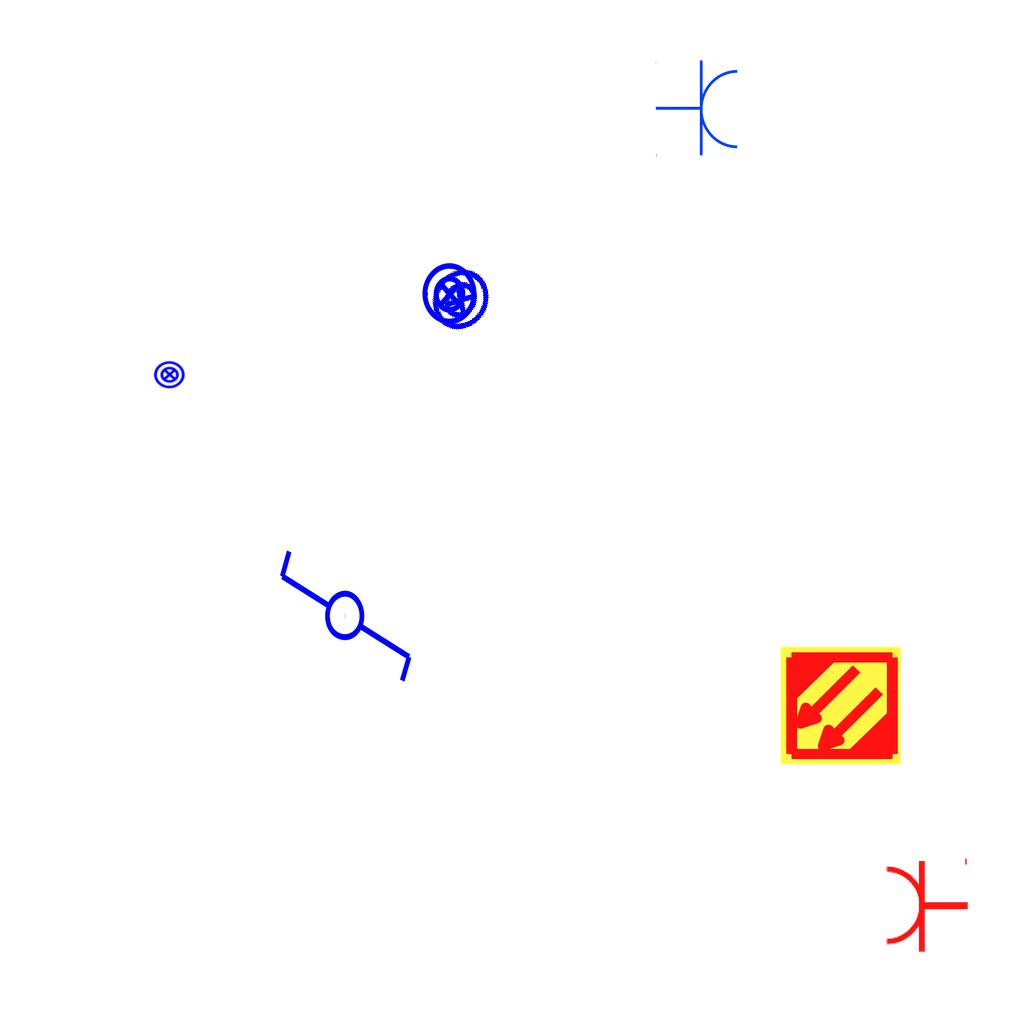ASR_Ansaugrauchmelder: (778, 643, 903, 768)
Schukosteckdose_einfach: (655, 59, 742, 159), (883, 854, 970, 954)
Taster_beleuchtet: (415, 254, 507, 346), (417, 261, 483, 327), (153, 358, 186, 391)
Wechselschalter: (275, 529, 419, 686)
